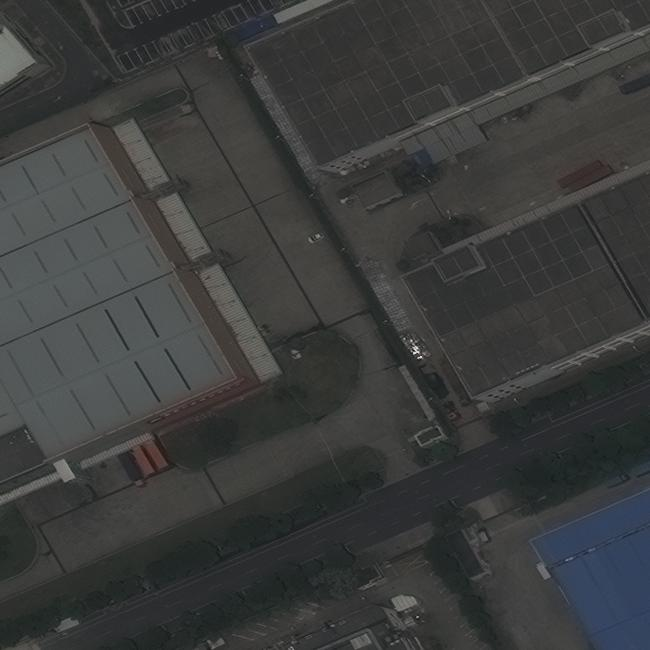parking lot: (114, 5, 249, 75)
